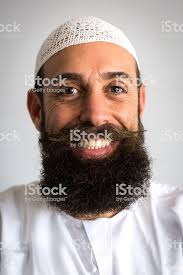middle_eastern_male: (33, 32, 146, 182)
